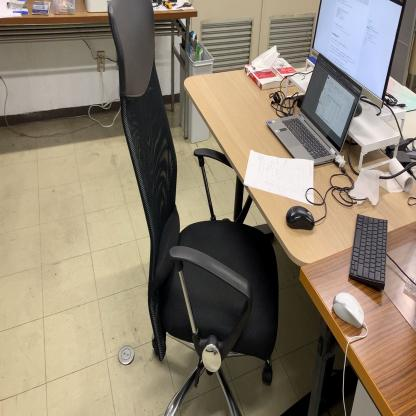chair: (107, 0, 279, 416)
